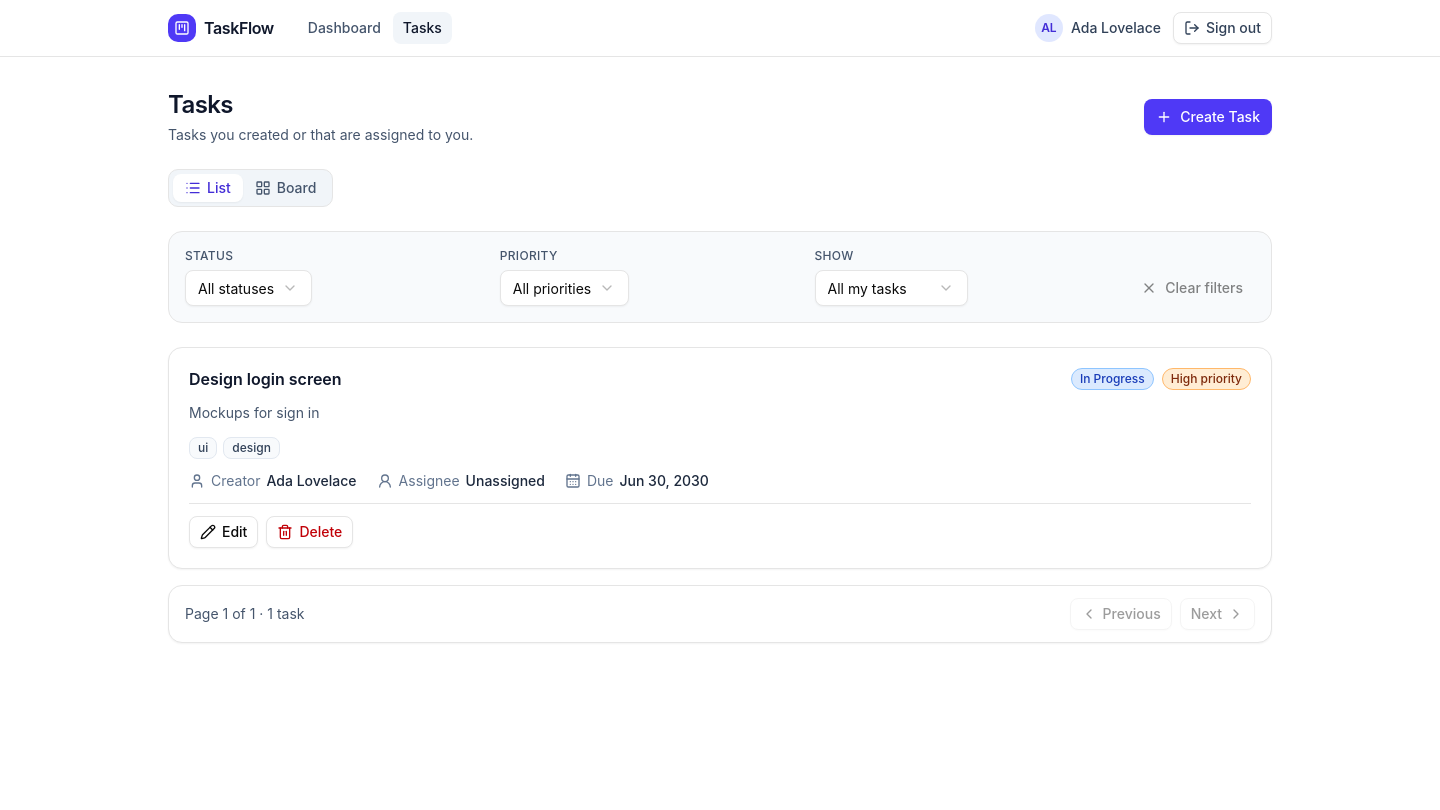
Test: edit task › closes without a request when nothing changed
The width and height of the screenshot is (1440, 810).
Click the button with aria-label "Edit task: Design login screen" at (224, 532), box x1=189 y1=516 x2=258 y2=548
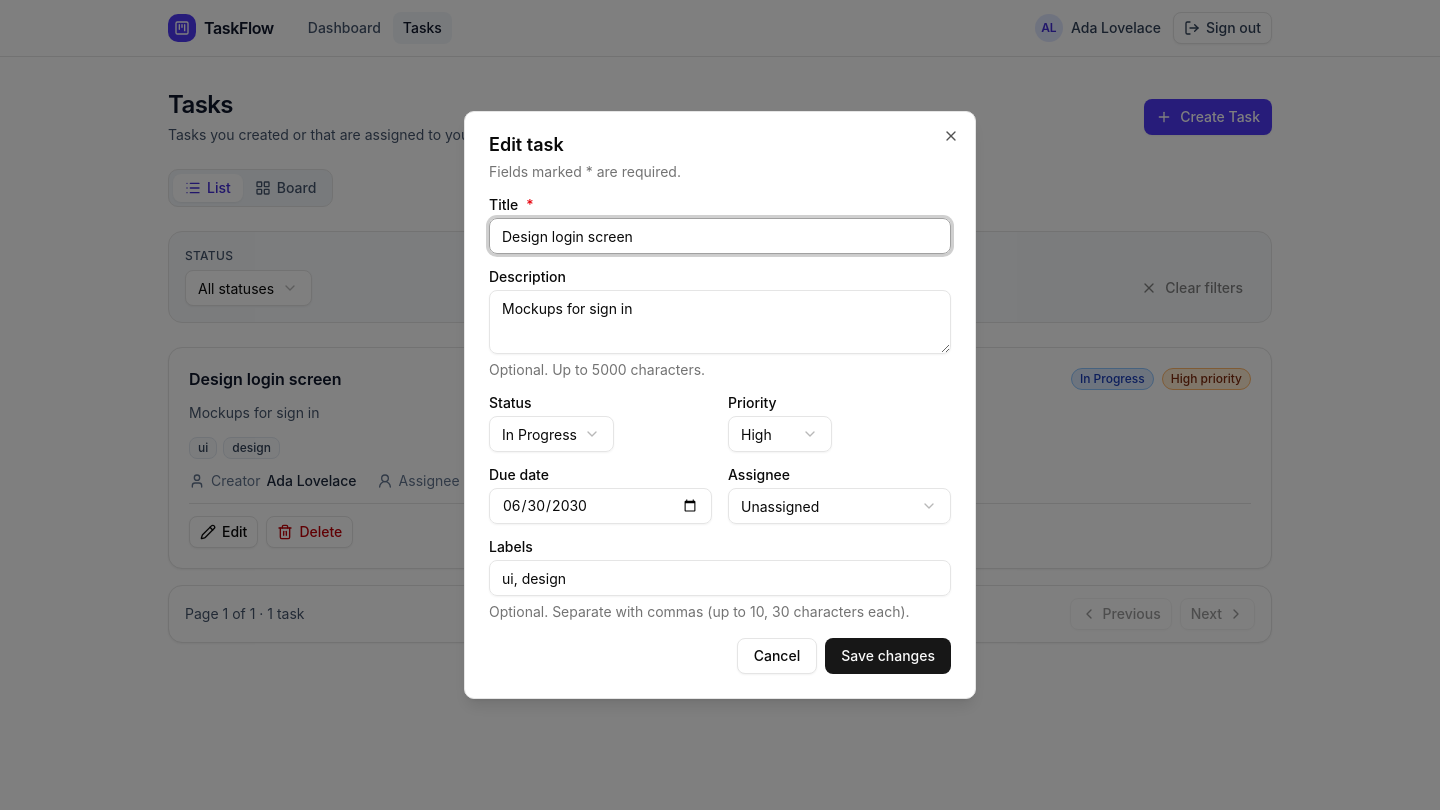
Click the button "Save changes" at (888, 656), box x1=825 y1=638 x2=951 y2=674
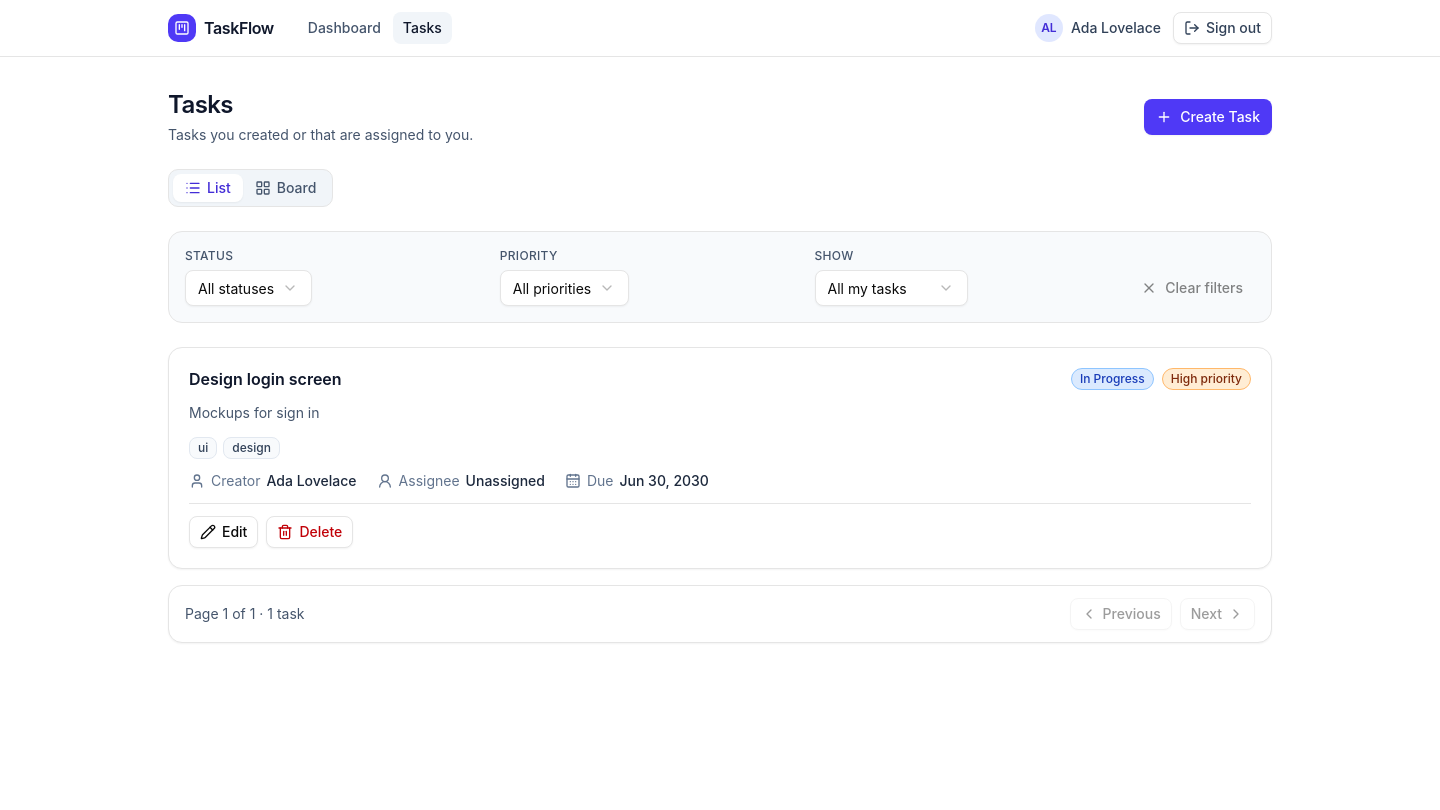
Now the dialog is gone
